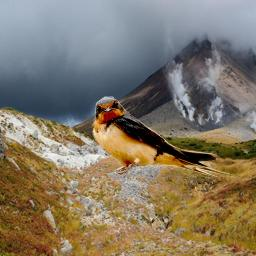Swallow: (90, 96, 233, 184)
